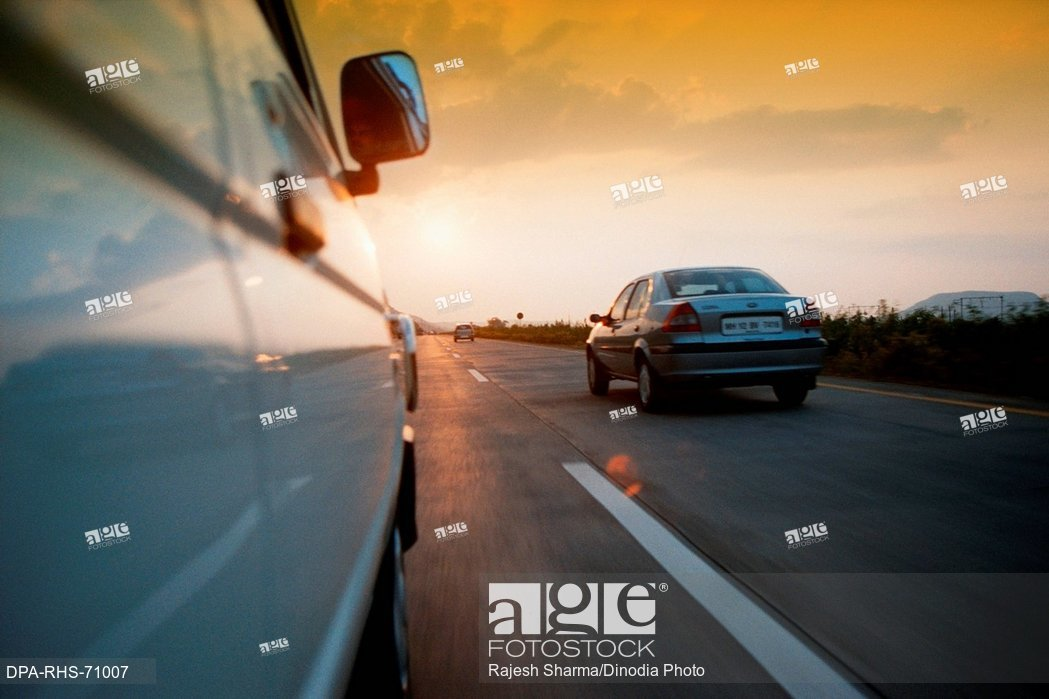Car: (577, 263, 831, 414), (453, 323, 475, 344)
